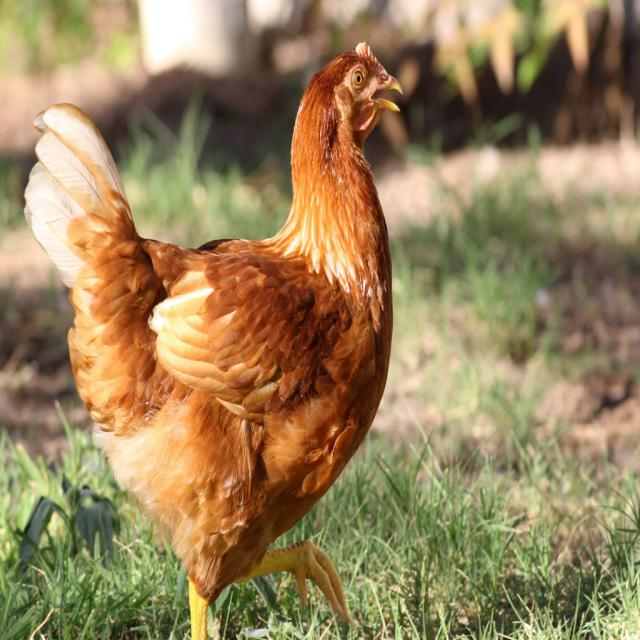Chicken: (20, 40, 402, 640)
